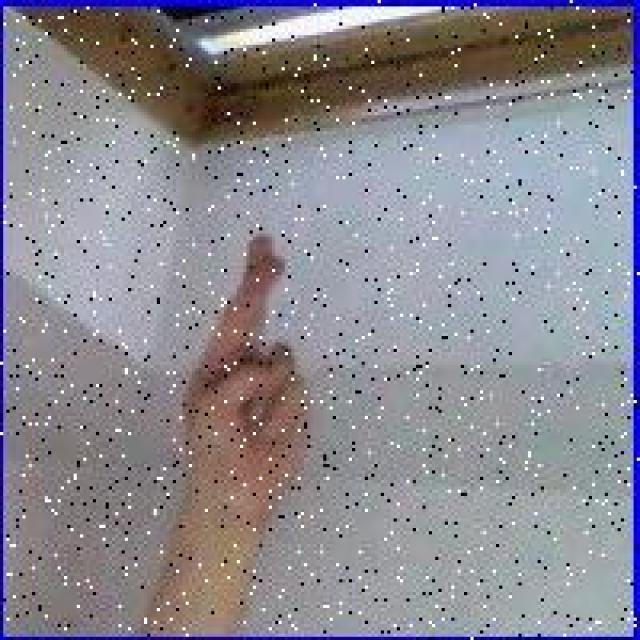R: (174, 230, 318, 522)
